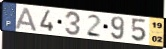2: (84, 14, 103, 38)
3: (64, 11, 82, 37)
4: (39, 10, 56, 34)
5: (130, 17, 148, 44)
9: (109, 16, 127, 41)
A: (13, 6, 38, 33)
